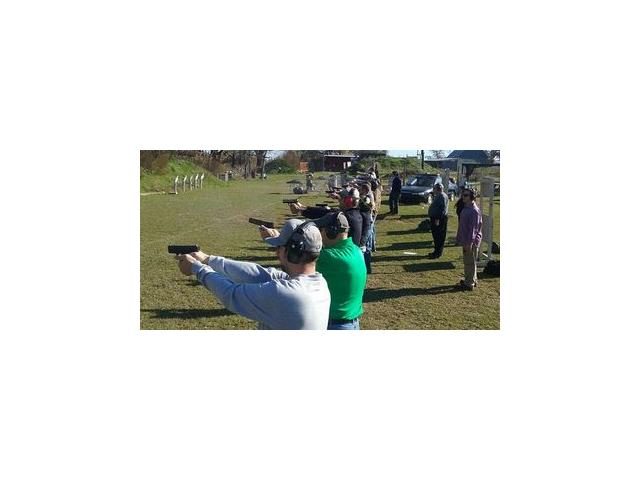pistol: (166, 242, 201, 279), (246, 216, 276, 248), (280, 196, 299, 214)
